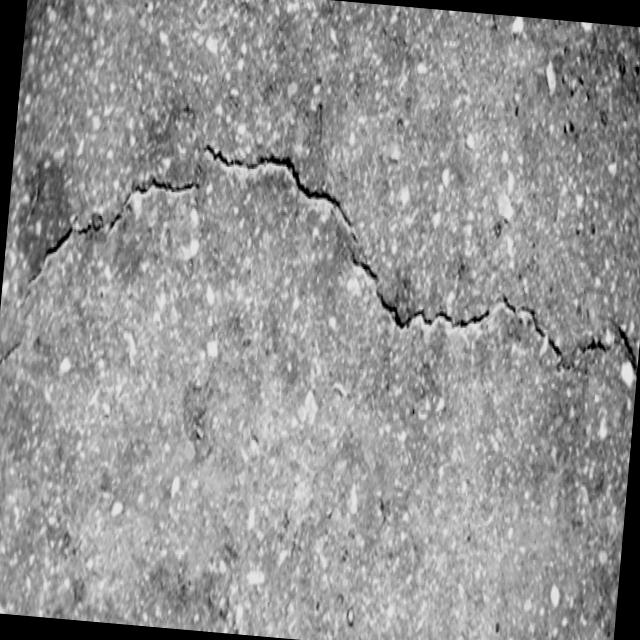crack: (0, 124, 640, 427)
